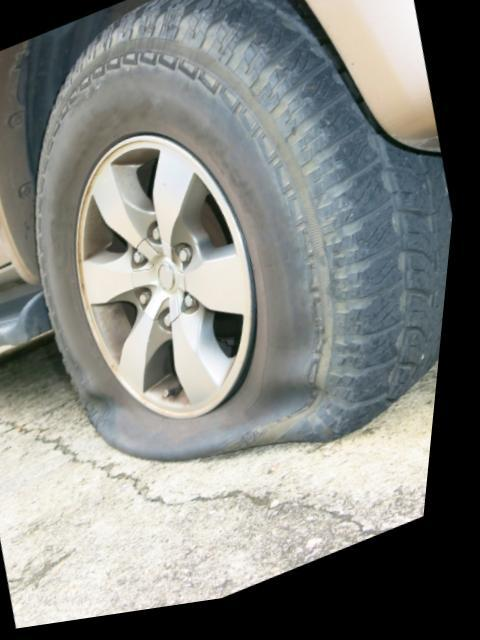tire flat: (41, 0, 458, 466)
